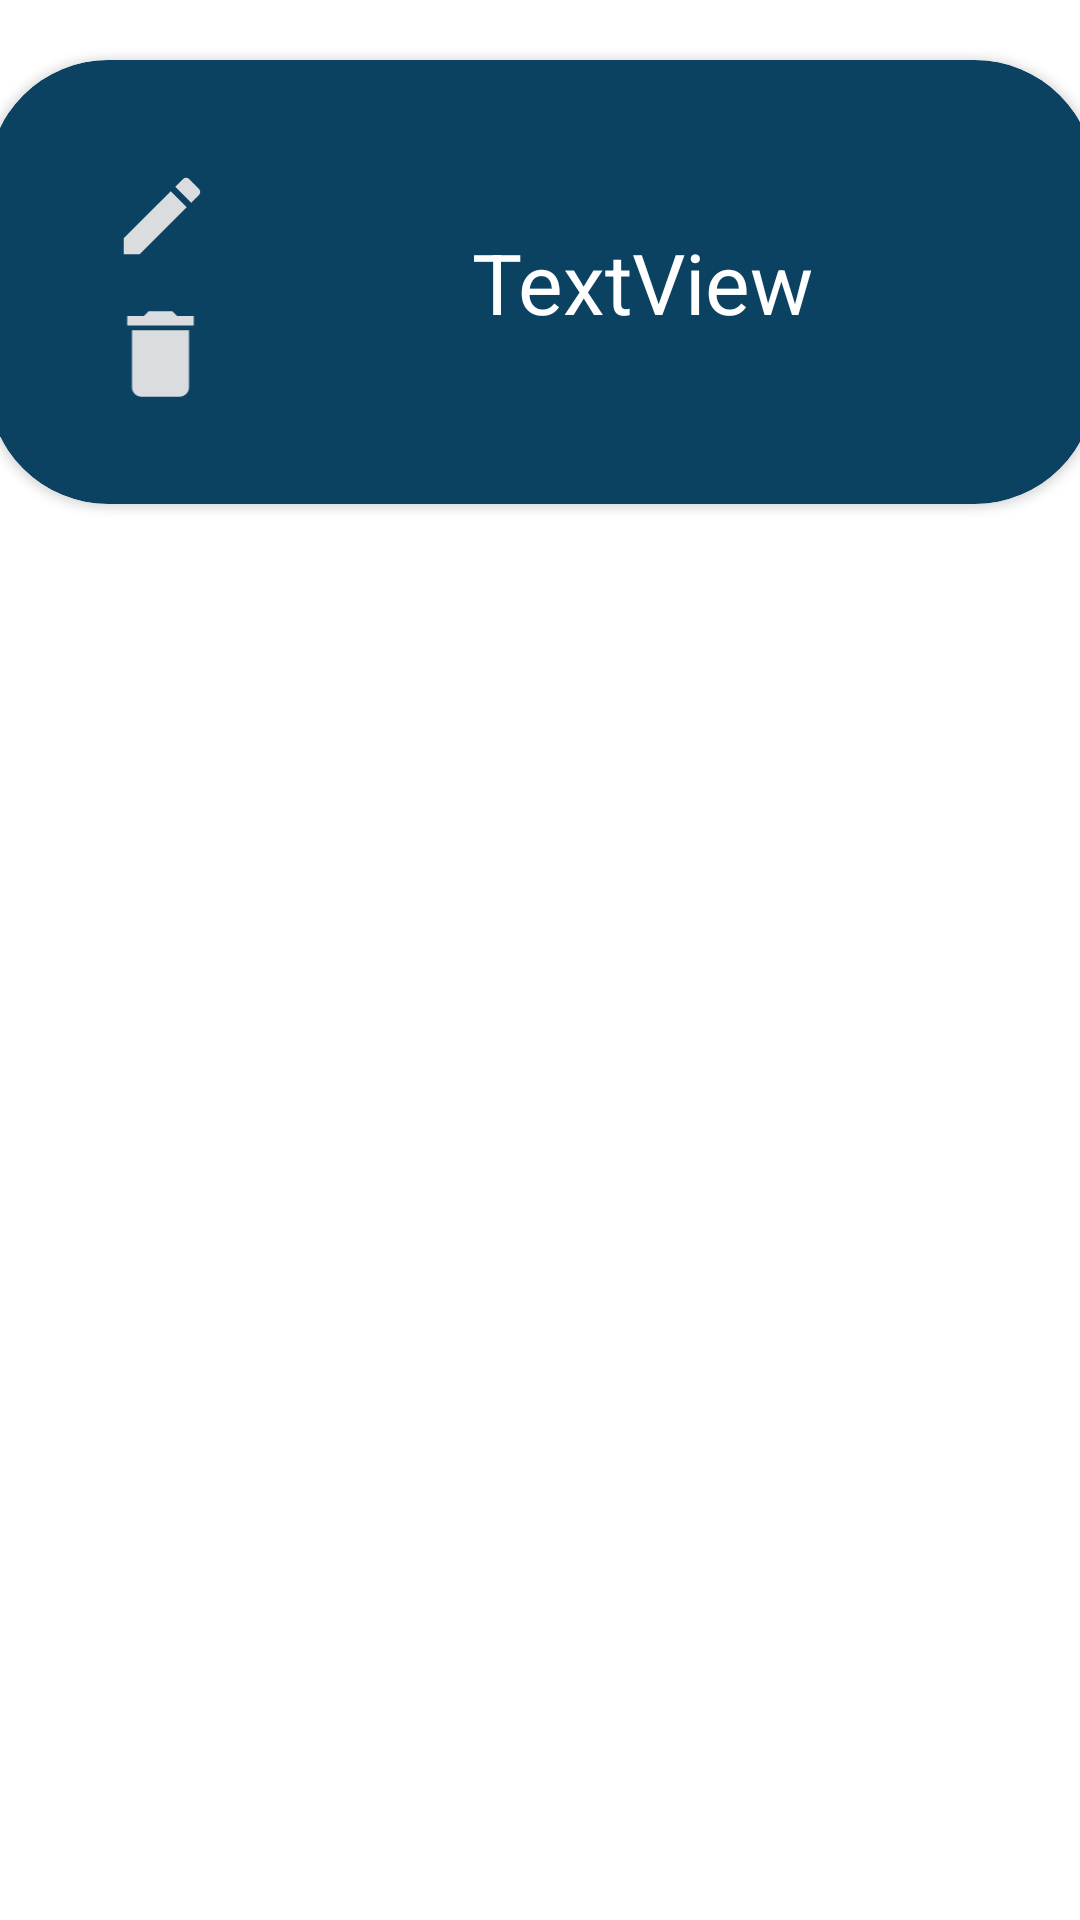

Icons on this 1080px x 1920px Android screen, each with the point to tap as [x,y]:
delete: [160,354]
edit: [162,216]
